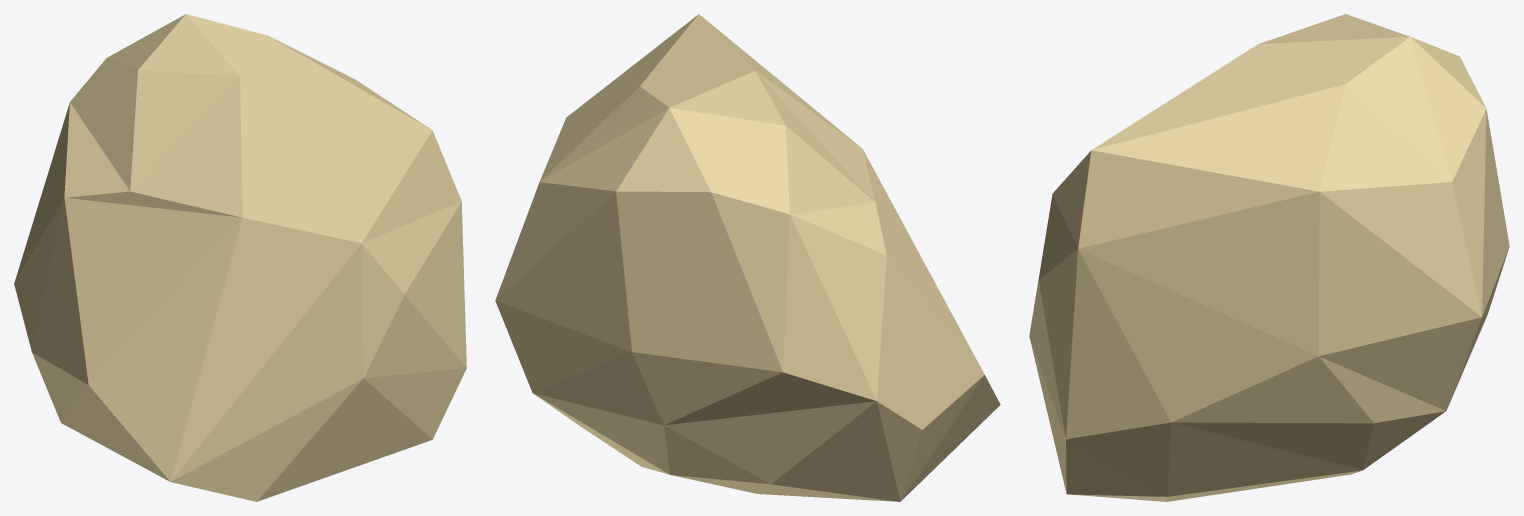
File: Rock (4).fbx
3 views of the same model, side by side, from view 1: azimuth 30°, elevation 25°; view 2: azimuth 150°, elevation 25°; view 3: azimuth 270°, elevation 25° (orthographic). The views are drawn at different scales.
Visible parts, largest first — view 1: Asteroid3; view 2: Asteroid3; view 3: Asteroid3.
Boxes of the visible parts, x1,y1,x2,y2 form: Asteroid3: (14, 14, 466, 501); Asteroid3: (495, 14, 1000, 501); Asteroid3: (1029, 14, 1509, 501).
Size of the model in its own units: 218 by 236 by 230.
